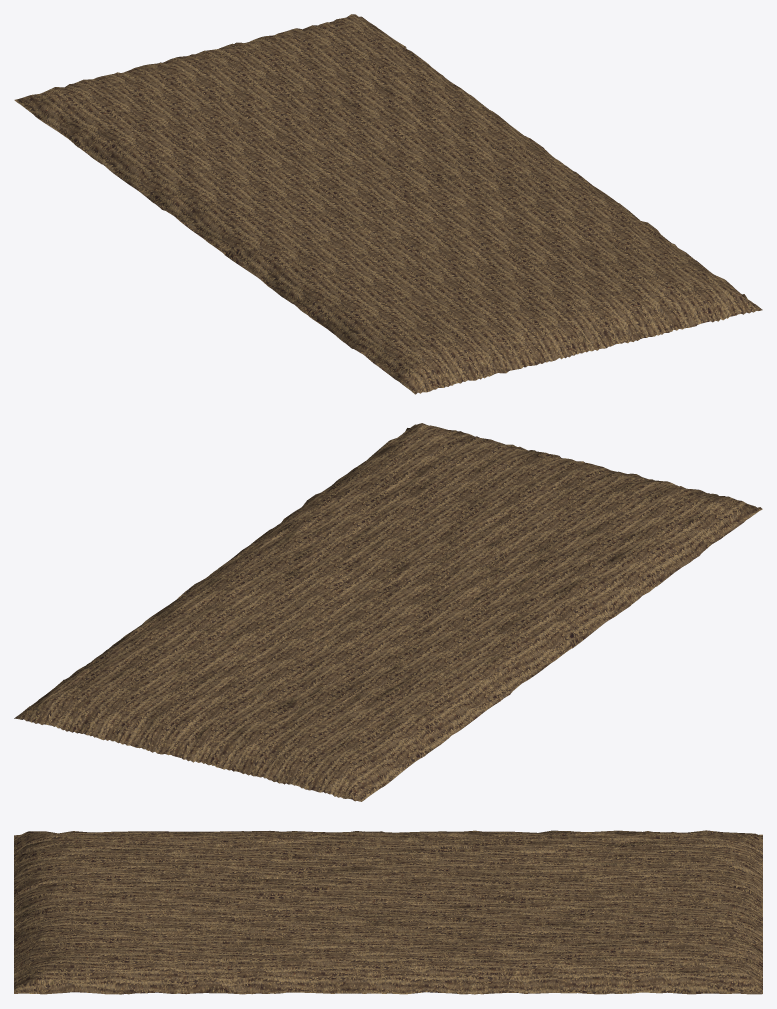
Rendered from MOD_CropSoil.fbx.
3 renders of one model, top to bottom at view 1: azimuth 30°, elevation 25°; view 2: azimuth 150°, elevation 25°; view 3: azimuth 270°, elevation 25°, orthographic. The views are drawn at different scales.
Parts seen in each view (by area): view 1: MOD_CropSoil; view 2: MOD_CropSoil; view 3: MOD_CropSoil.
Part boxes in pixels (box(x1,y1,x2,y2)): MOD_CropSoil: box(14, 14, 762, 394); MOD_CropSoil: box(14, 423, 762, 801); MOD_CropSoil: box(14, 830, 762, 994).
Size of the model in its own units: 2000 by 115 by 4000.
1 material, 1 textured.
